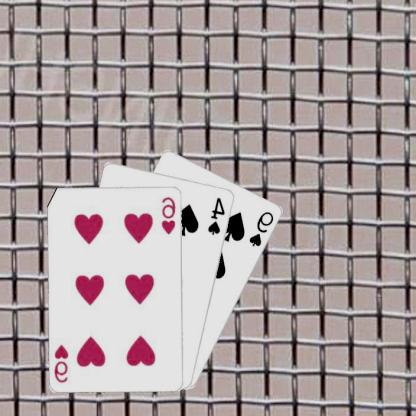4S: (207, 194, 229, 236)
6H: (161, 194, 179, 235), (54, 342, 71, 384)
9S: (248, 209, 277, 248)
